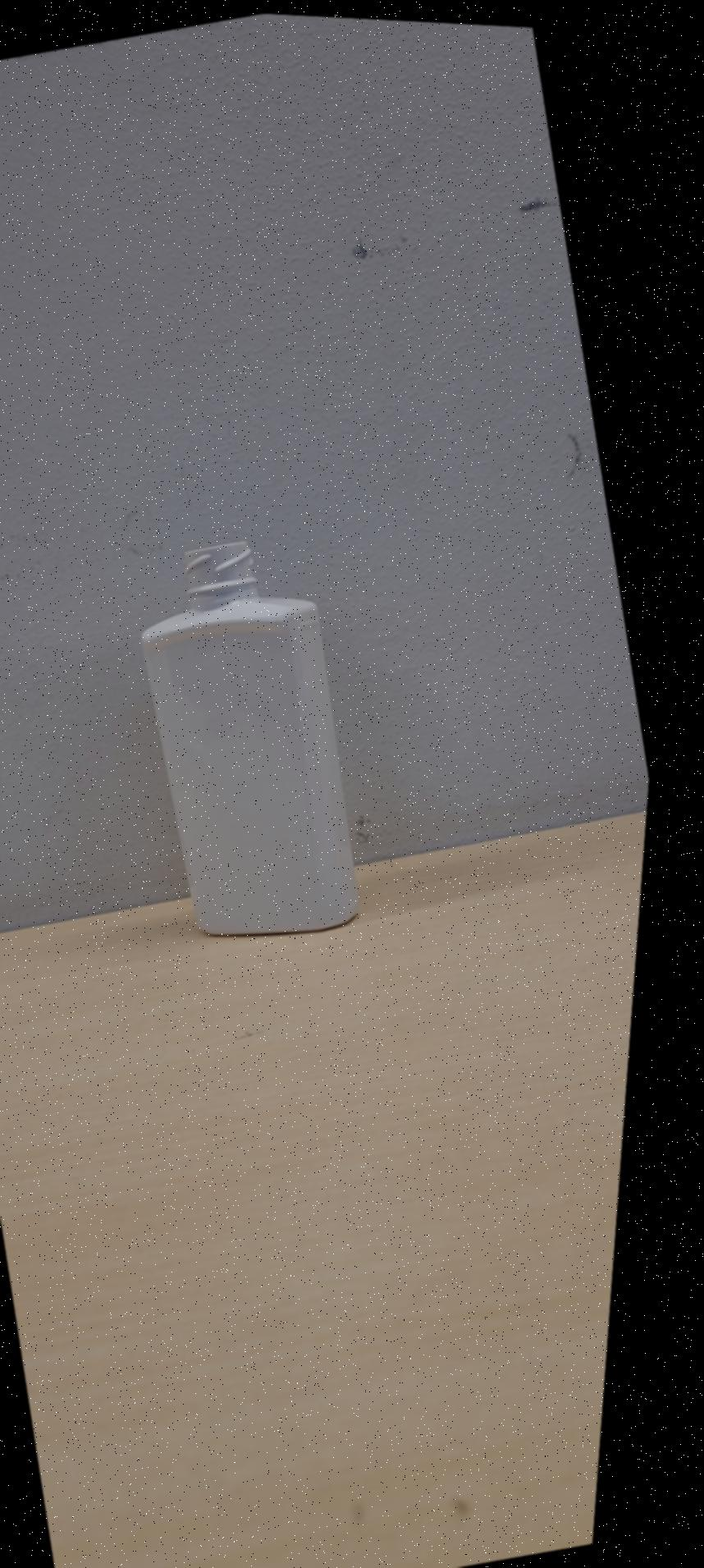bottle: (142, 540, 357, 935)
